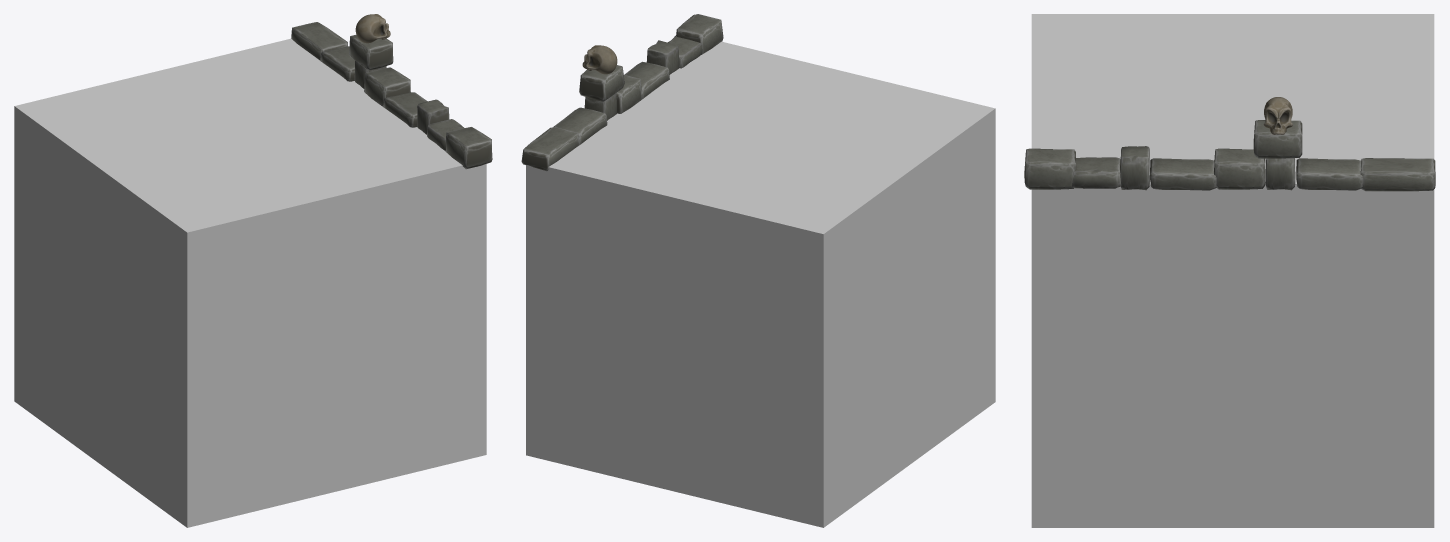
The model's file is Platform_A.fbx.
3 views of the same model, side by side, from view 1: azimuth 30°, elevation 25°; view 2: azimuth 150°, elevation 25°; view 3: azimuth 270°, elevation 25° (orthographic). The views are drawn at different scales.
Visible parts, largest first — view 1: Skull_A_LP.001; view 2: Skull_A_LP.001; view 3: Skull_A_LP.001.
Boxes of the visible parts, box(x1,y1,x2,y2) form: Skull_A_LP.001: box(14, 14, 492, 527); Skull_A_LP.001: box(521, 14, 995, 527); Skull_A_LP.001: box(1024, 14, 1435, 527).
Size of the model in its own units: 3609 by 4070 by 3575.
